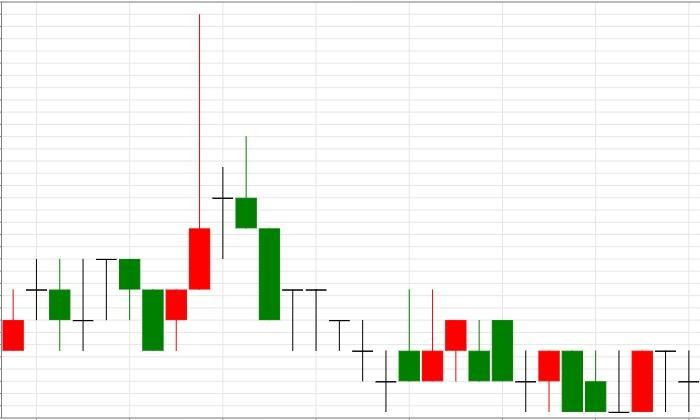shooting_star_fall: (143, 13, 258, 351)
